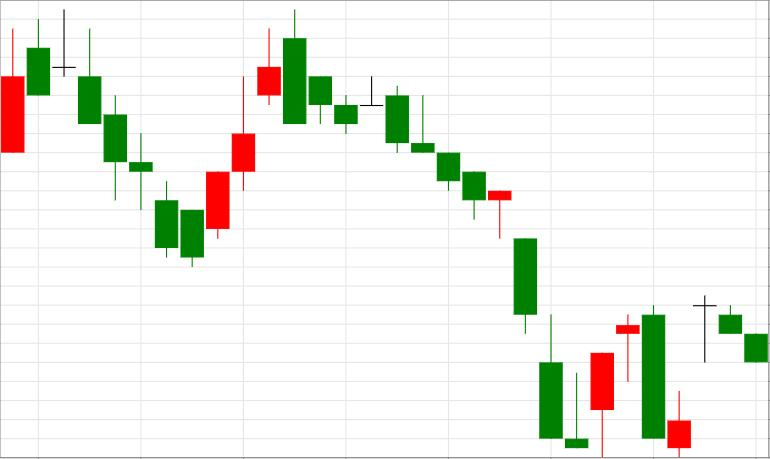bearish_engulfing_fall: (181, 9, 306, 268)
morning_star_rise: (386, 85, 614, 458)
